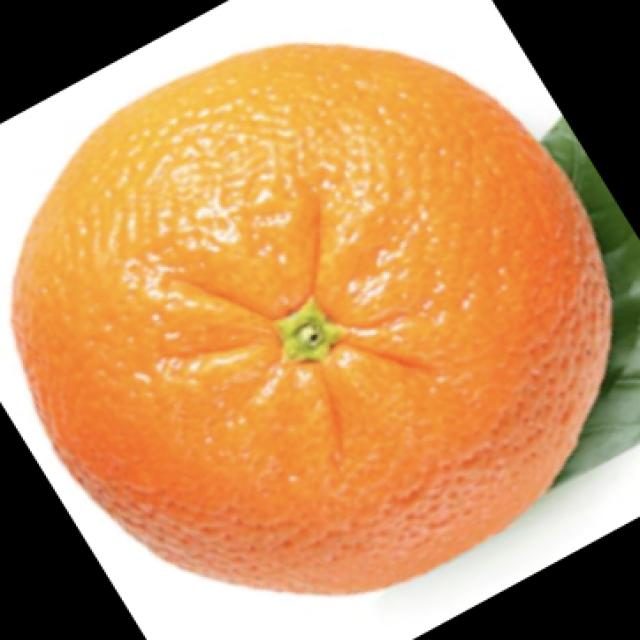fresh: (12, 31, 621, 605)
